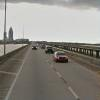Car: (40, 42, 72, 74)
